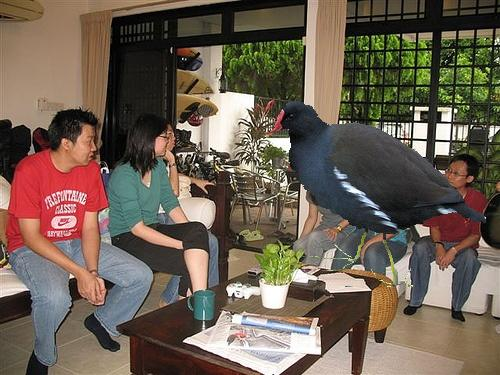tampered: (266, 102, 486, 287)
